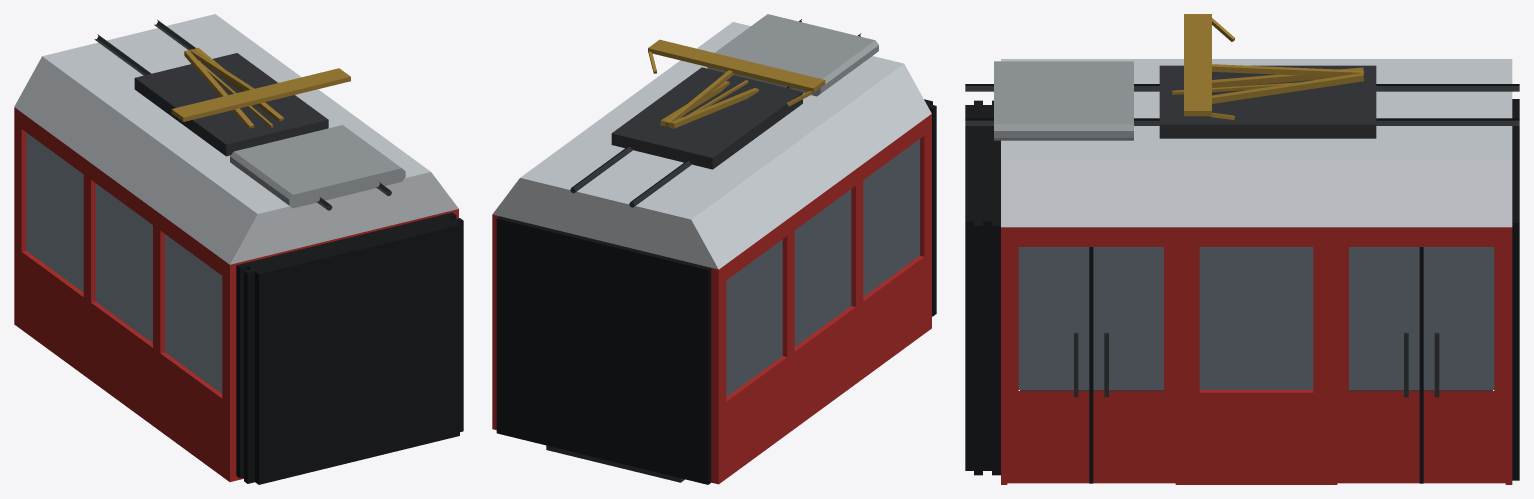
The picture shows the model from 3 angles, left to right: view 1: azimuth 30°, elevation 25°; view 2: azimuth 150°, elevation 25°; view 3: azimuth 270°, elevation 25°; orthographic projection. The views are drawn at different scales.
Parts seen in each view (by area): view 1: 14t-b; view 2: 14t-b; view 3: 14t-b.
Boxes of the visible parts, x1,y1,x2,y2 form: 14t-b: (14,14,463,484); 14t-b: (492,14,936,484); 14t-b: (965,14,1519,484).
Size of the model in its own units: 2.46 by 3.24 by 4.35.
